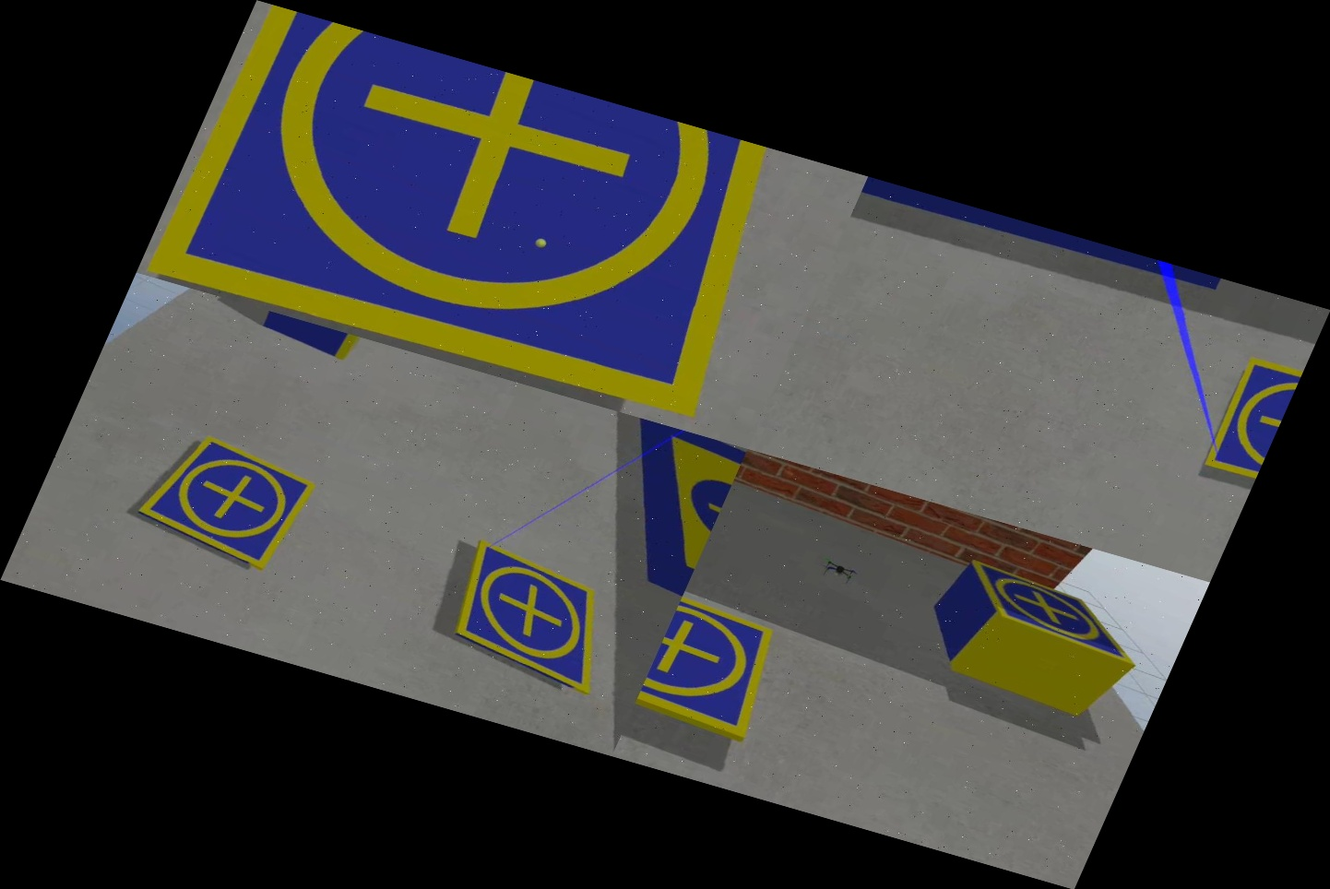large_base: (549, 412, 747, 607)
small_base: (136, 0, 851, 444), (420, 533, 650, 701), (126, 424, 323, 574), (631, 589, 810, 749), (936, 555, 1168, 678), (1182, 338, 1309, 493)
